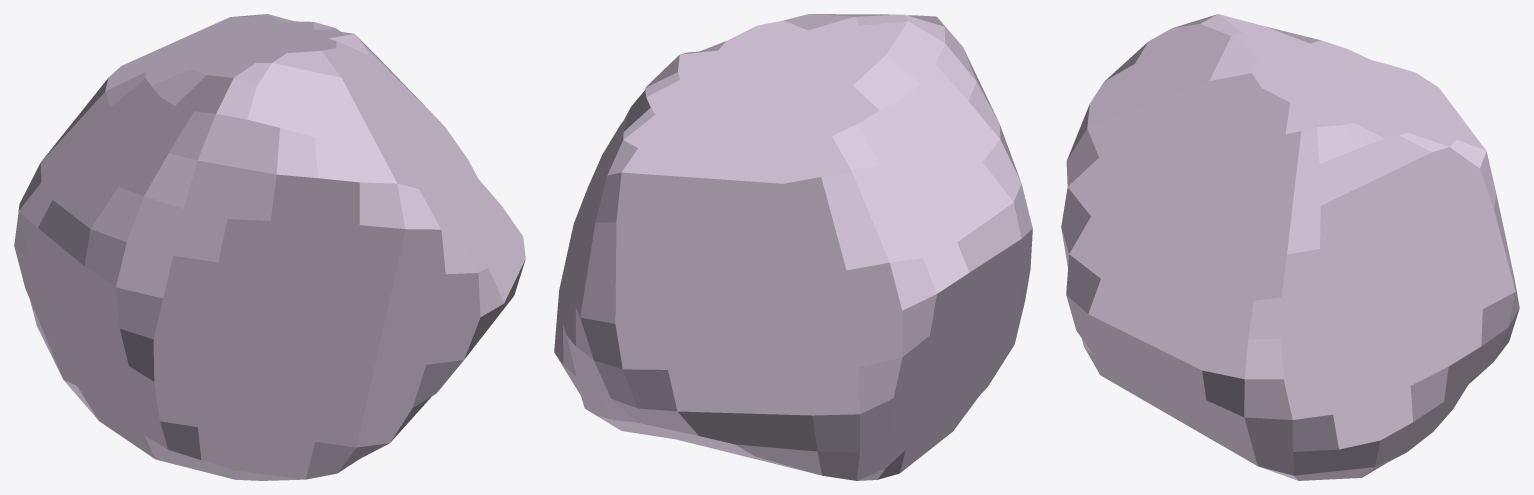
Rendered from rock 3.fbx.
The picture shows the model from 3 angles, left to right: view 1: azimuth 30°, elevation 25°; view 2: azimuth 150°, elevation 25°; view 3: azimuth 270°, elevation 25°; orthographic projection. The views are drawn at different scales.
Visible parts, largest first — view 1: Sphere.006; view 2: Sphere.006; view 3: Sphere.006.
Boxes of the visible parts, left/top/right/bottom form: Sphere.006: left=14, top=14, right=525, bottom=480; Sphere.006: left=554, top=14, right=1032, bottom=480; Sphere.006: left=1061, top=14, right=1519, bottom=480.
Size of the model in its own units: 3.5 by 3.05 by 3.43.
